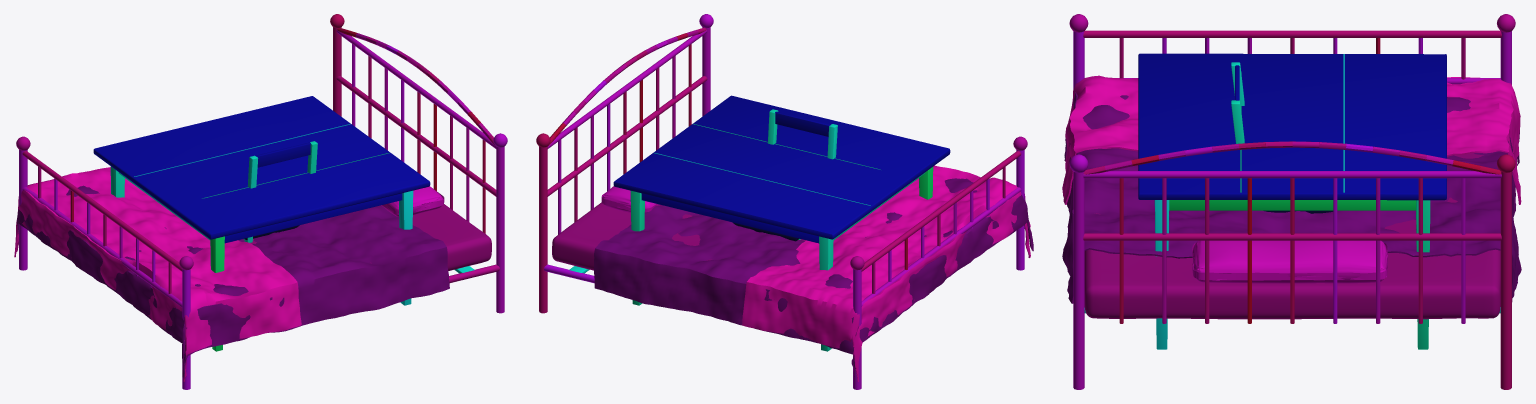
File: Furniture.fbx
The picture shows the model from 3 angles, left to right: view 1: azimuth 30°, elevation 25°; view 2: azimuth 150°, elevation 25°; view 3: azimuth 270°, elevation 25°; orthographic projection. The views are drawn at different scales.
Visible parts, largest first — view 1: Bed, Table, Chair; view 2: Bed, Table, Chair; view 3: Bed, Table, Chair.
Boxes of the visible parts, box(x1,y1,x2,y2) form: Bed: box(14, 14, 507, 389); Table: box(93, 96, 430, 351); Chair: box(243, 141, 317, 242); Bed: box(536, 14, 1033, 389); Table: box(613, 95, 950, 351); Chair: box(732, 109, 837, 241); Bed: box(1062, 14, 1521, 389); Table: box(1138, 53, 1446, 349); Chair: box(1231, 62, 1333, 213).
Bounding box in the file's own units: 2.09 × 1.14 × 1.93.
